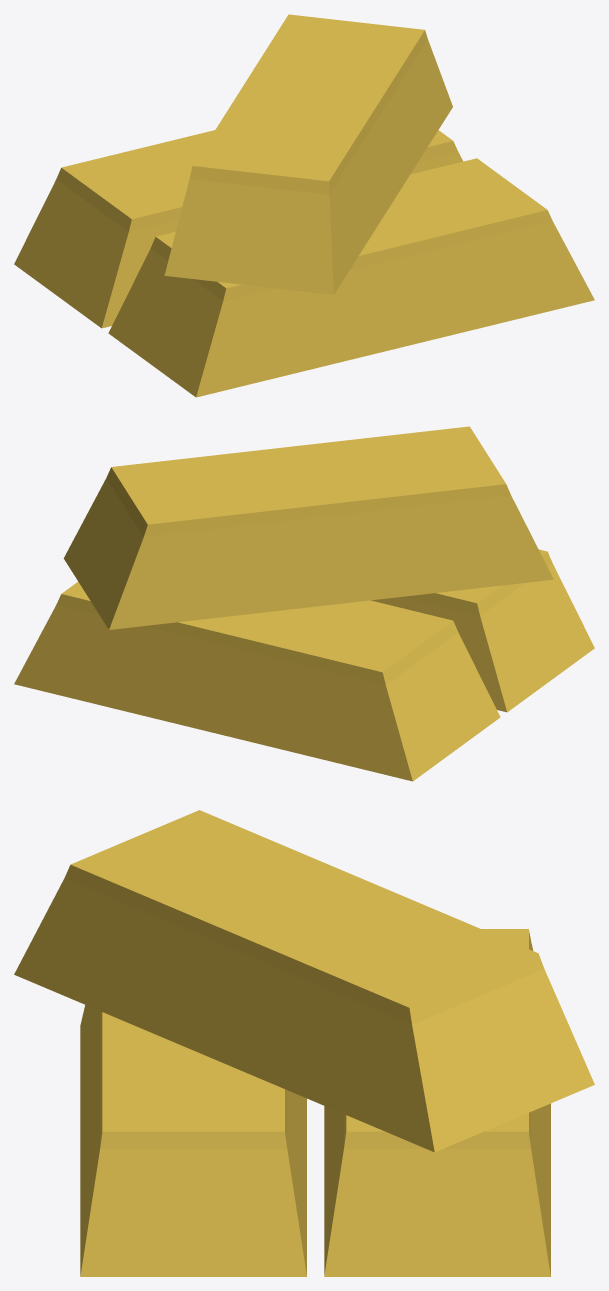
The model's file is gold.glb.
The picture shows the model from 3 angles, top to bottom: view 1: azimuth 30°, elevation 25°; view 2: azimuth 150°, elevation 25°; view 3: azimuth 270°, elevation 25°; orthographic projection. The views are drawn at different scales.
Parts seen in each view (by area): view 1: Cube; view 2: Cube; view 3: Cube.
Boxes of the visible parts, bbox=[...] form: Cube: bbox=[14, 14, 594, 397]; Cube: bbox=[14, 426, 594, 781]; Cube: bbox=[14, 810, 594, 1276].
Bounding box in the file's own units: 4.69 × 2.11 × 4.58.
